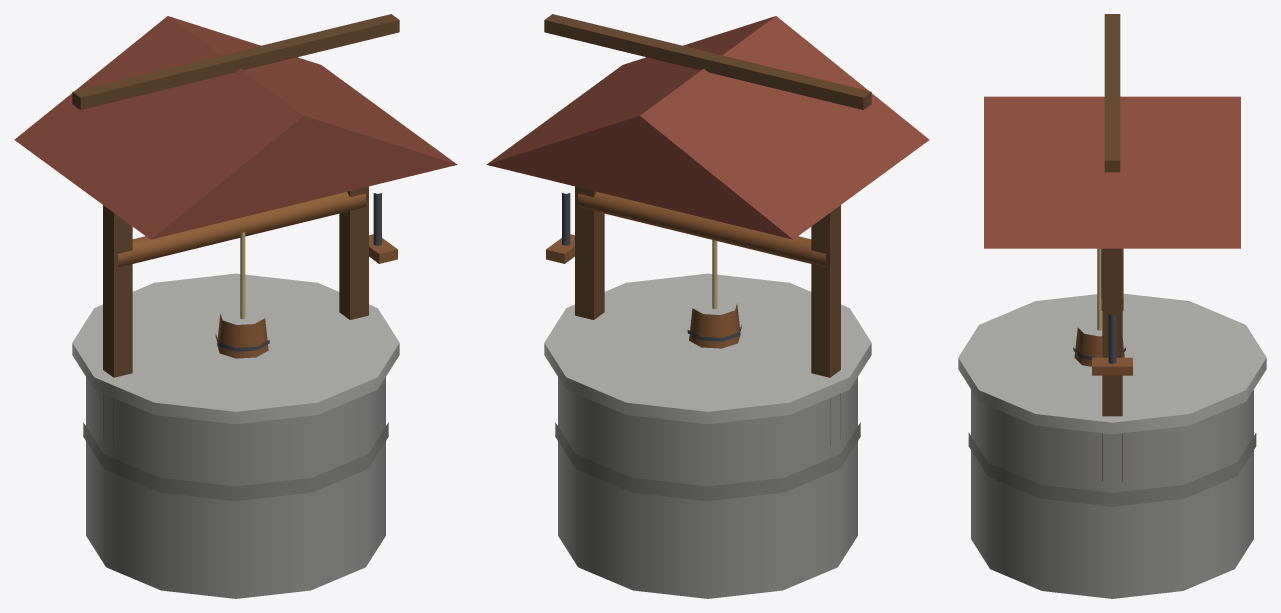
The model's file is Well.glb.
The picture shows the model from 3 angles, left to right: view 1: azimuth 30°, elevation 25°; view 2: azimuth 150°, elevation 25°; view 3: azimuth 270°, elevation 25°; orthographic projection. The views are drawn at different scales.
Parts seen in each view (by area): view 1: Well; view 2: Well; view 3: Well.
Part boxes in pixels (<box>): Well: <box>14,14,457,598</box>; Well: <box>486,14,929,598</box>; Well: <box>958,14,1266,598</box>.
Bounding box in the file's own units: 2.7 × 3.88 × 2.4.
